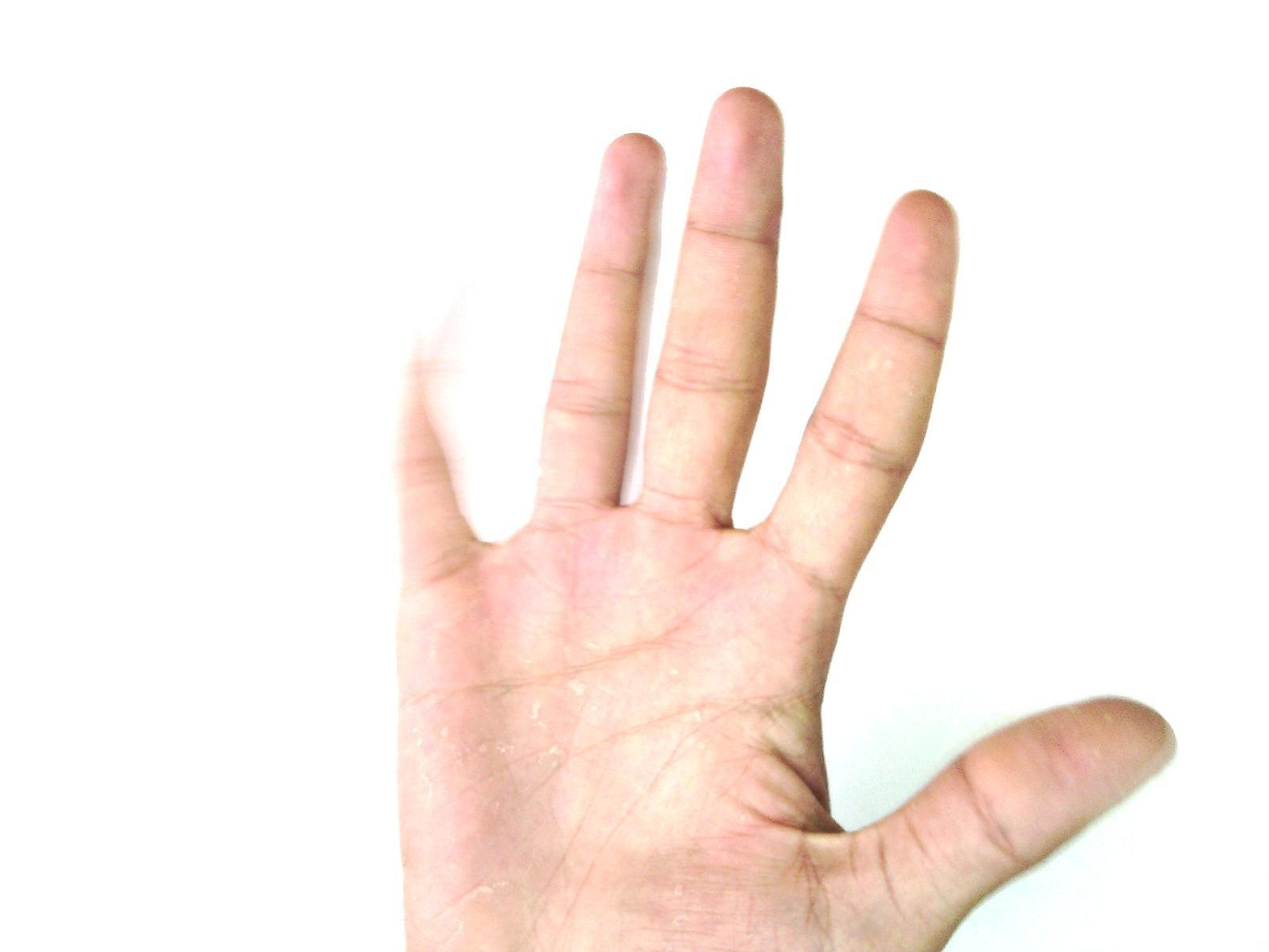open_palm: (389, 86, 1179, 951)
